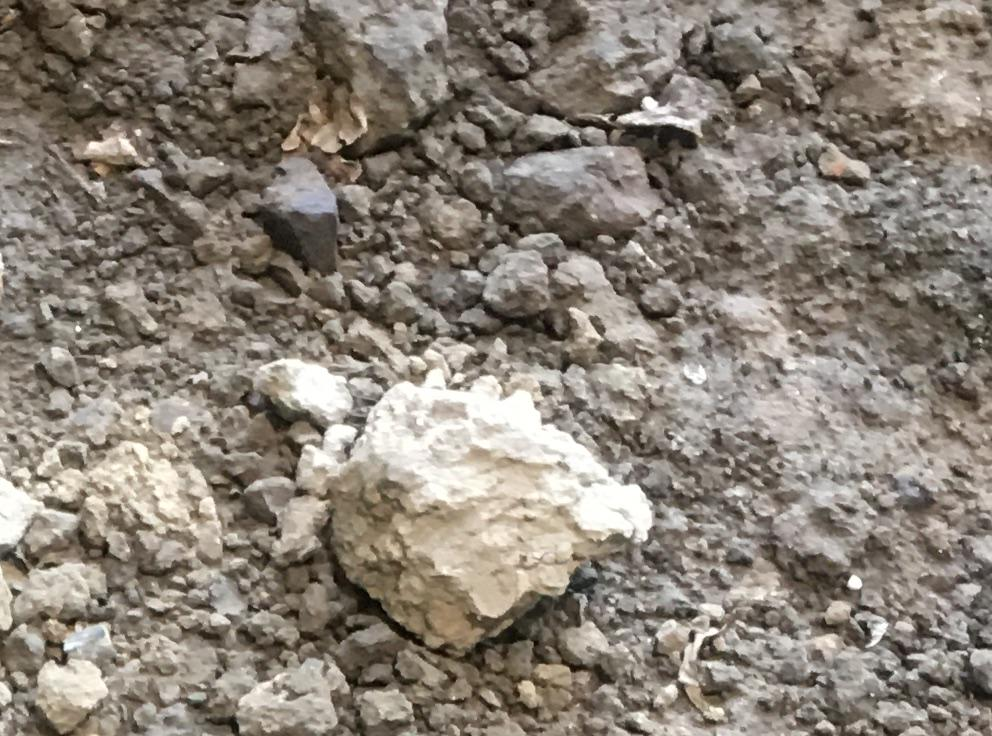block: (324, 377, 655, 647), (494, 148, 658, 239)
